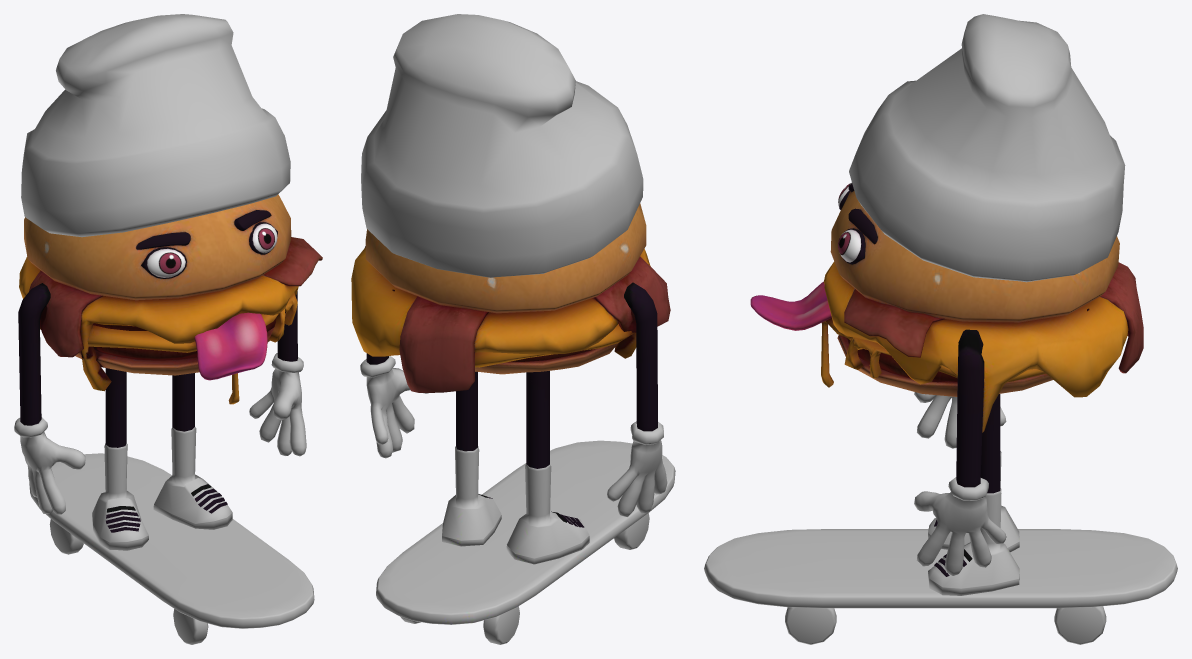
File: skater_old.glb
3 renders of one model, left to right at view 1: azimuth 30°, elevation 25°; view 2: azimuth 150°, elevation 25°; view 3: azimuth 270°, elevation 25°, orthographic. The views are drawn at different scales.
Visible parts, largest first — view 1: skate.001_skate, skate.002_skate.001; view 2: skate.001_skate, skate.002_skate.001; view 3: skate.001_skate, skate.002_skate.001.
Boxes of the visible parts, bbox=[...] form: skate.001_skate: bbox=[14, 14, 314, 644]; skate.002_skate.001: bbox=[18, 194, 322, 532]; skate.001_skate: bbox=[360, 14, 675, 644]; skate.002_skate.001: bbox=[351, 203, 670, 527]; skate.001_skate: bbox=[704, 14, 1177, 644]; skate.002_skate.001: bbox=[750, 182, 1143, 576].
Size of the model in its own units: 1.65 by 3.03 by 2.18.
Materials: 2 (2 with a texture image).
